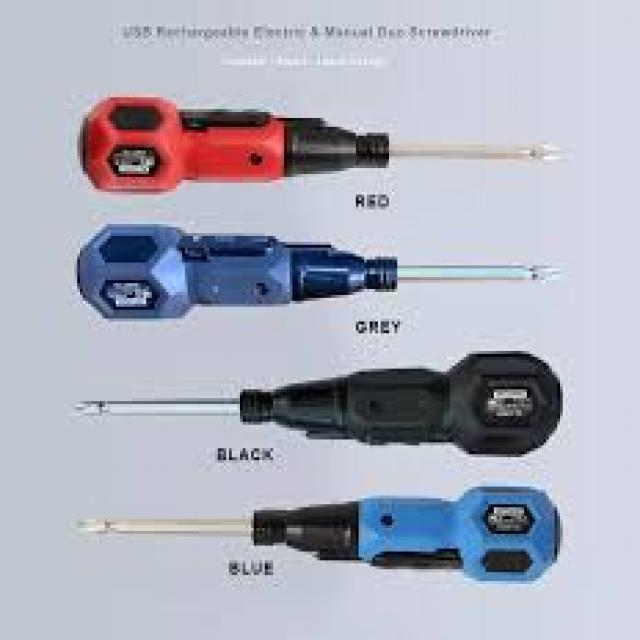screwdriver: (64, 480, 568, 604), (59, 342, 570, 460), (77, 92, 582, 206), (70, 221, 572, 333)
